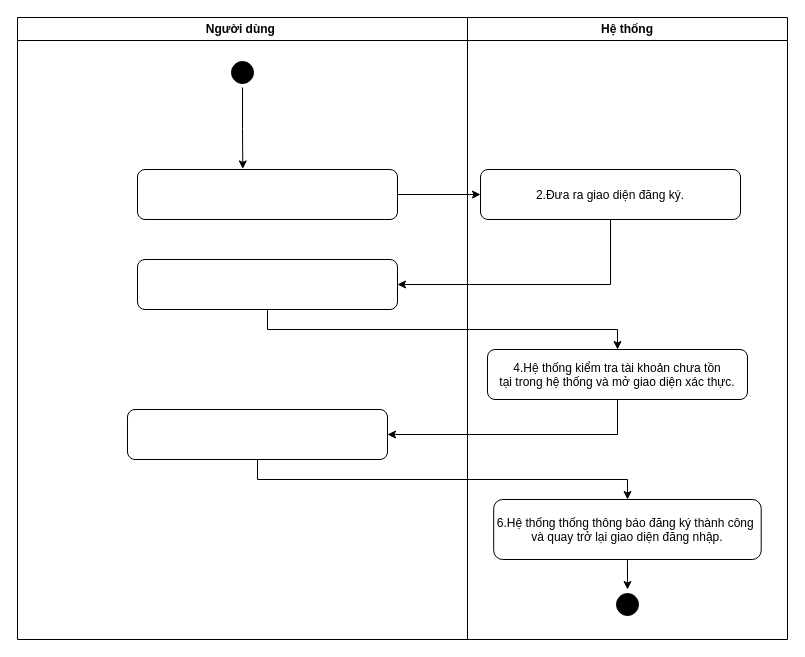
The diagram is 805 pixels wide and 657 high, and some of its shapes have lost their labels. The shapes that lost their labels are listed below. From the top down, each one's box as (x1, y1, x2, y2) in pixels, then its label:
(136, 168, 398, 220): 1.Chọn đăng ký trên ứng dụng.
(136, 258, 398, 310): 3.Điền thông tin đăng ký và nhấn đăng ký.
(126, 408, 388, 460): 5.Người dùng điền mã xác thực và chọn xác thực trên giao diện.
